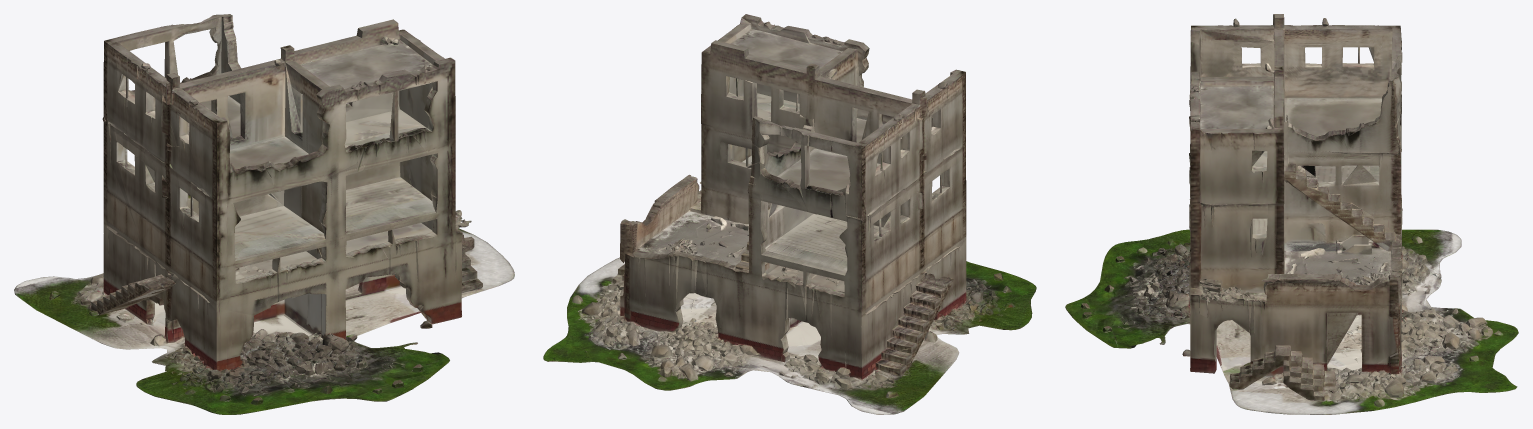
File: ash-ruin.glb
3 views of the same model, side by side, from view 1: azimuth 30°, elevation 25°; view 2: azimuth 150°, elevation 25°; view 3: azimuth 270°, elevation 25° (orthographic). The views are drawn at different scales.
Size of the model in its own units: 1.84 by 1.14 by 1.9.
Materials: 1 (1 with a texture image).
